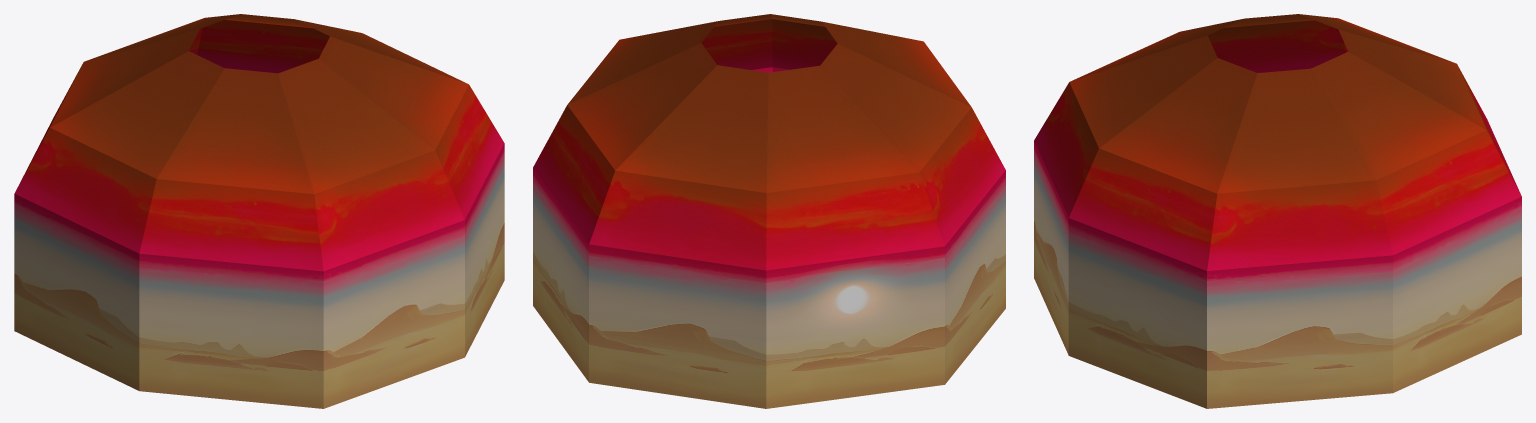
File: scorch.fbx
3 renders of one model, left to right at view 1: azimuth 30°, elevation 25°; view 2: azimuth 150°, elevation 25°; view 3: azimuth 270°, elevation 25°, orthographic.
Parts seen in each view (by area): view 1: morning_sky; view 2: morning_sky; view 3: morning_sky.
Part boxes in pixels (<box>): morning_sky: <box>14,14,504,408</box>; morning_sky: <box>533,14,1005,408</box>; morning_sky: <box>1034,14,1521,408</box>.
Size of the model in its own units: 54131 by 36144 by 54404.
